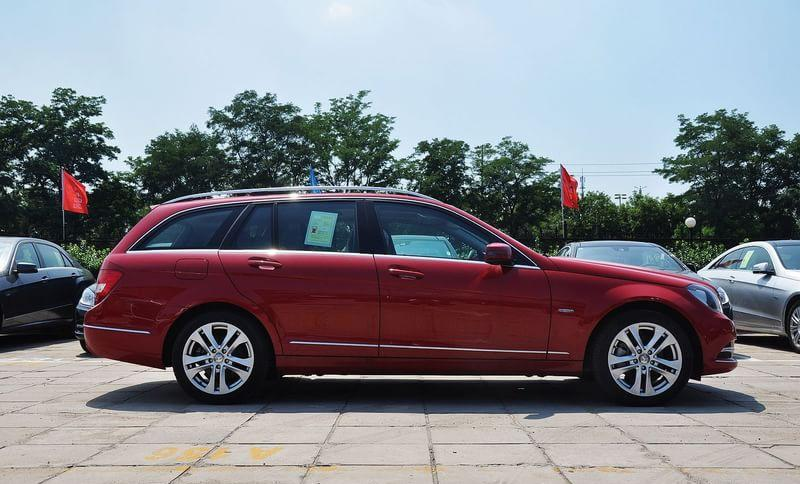Wagon: (82, 185, 738, 406)
